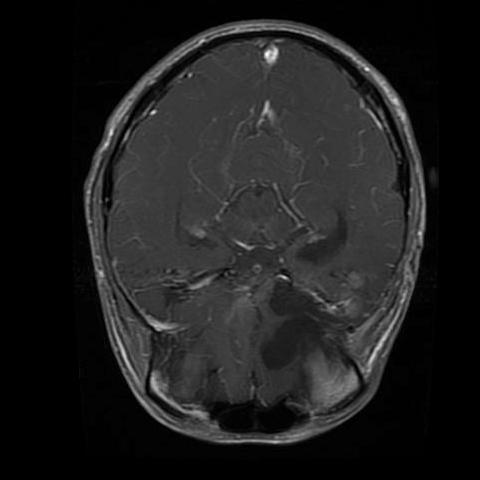Tumour-Glioma: (247, 273, 324, 366)
